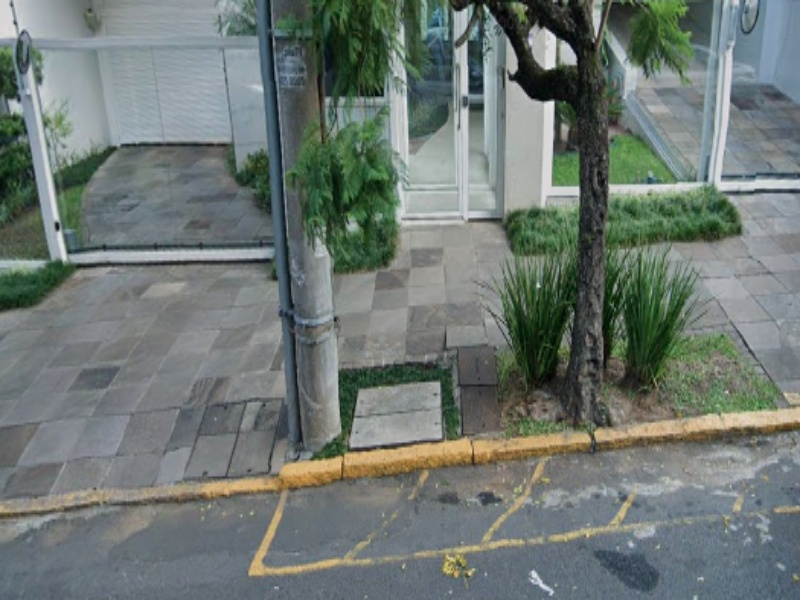v25: (6, 421, 283, 519)
